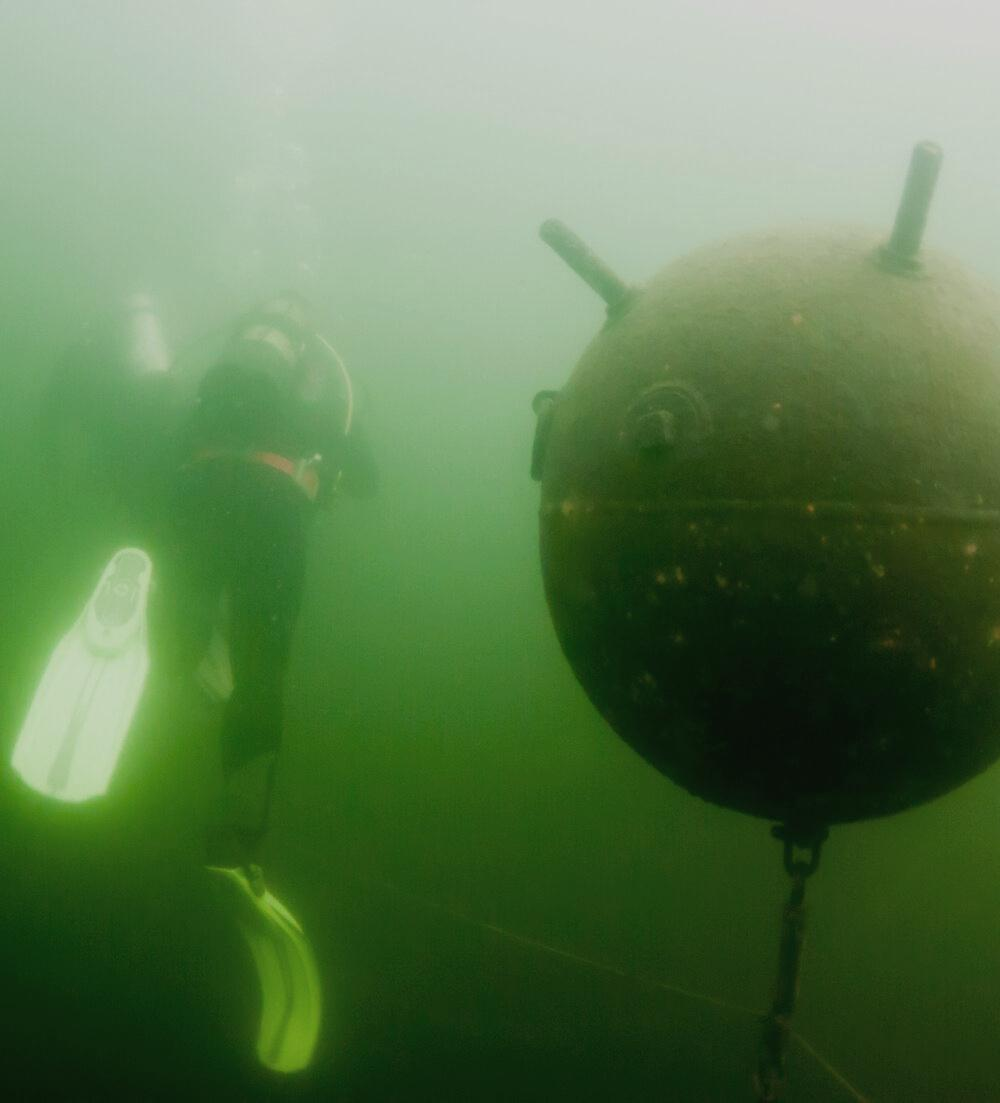Mines: (521, 134, 1000, 832)
